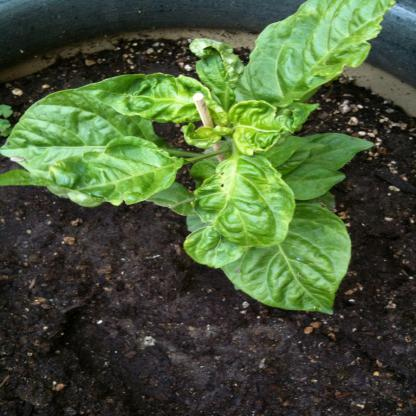bell pepper leaf: (240, 1, 386, 98), (215, 219, 349, 310), (185, 158, 299, 254), (41, 136, 187, 206), (50, 69, 220, 124)
